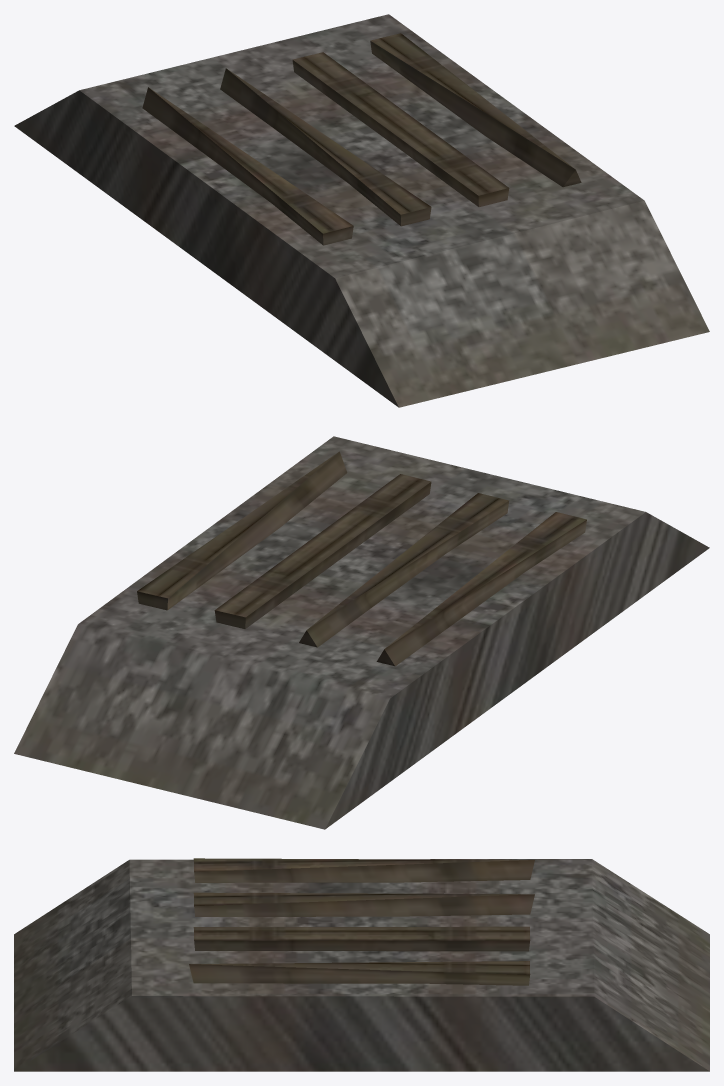
The model's file is rail-track-wood-short-lod1.glb.
The picture shows the model from 3 angles, top to bottom: view 1: azimuth 30°, elevation 25°; view 2: azimuth 150°, elevation 25°; view 3: azimuth 270°, elevation 25°; orthographic projection. The views are drawn at different scales.
Visible parts, largest first — view 1: rail-track-wood-short.001; view 2: rail-track-wood-short.001; view 3: rail-track-wood-short.001.
Boxes of the visible parts, <box> form: rail-track-wood-short.001: <box>14,14,709,407</box>; rail-track-wood-short.001: <box>14,436,709,829</box>; rail-track-wood-short.001: <box>14,858,709,1071</box>.
Bounding box in the file's own units: 2.5 × 0.7727 × 5.36.
Materials: 1 (1 with a texture image).
